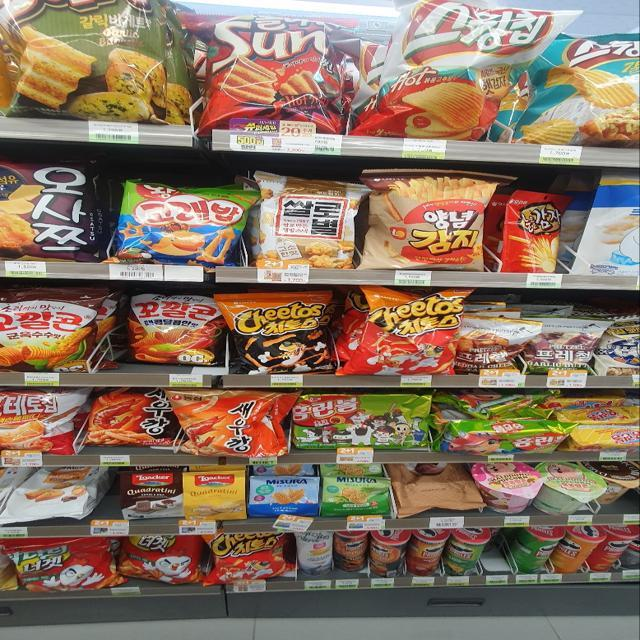product: (377, 0, 565, 140), (212, 18, 350, 133), (356, 170, 498, 272), (111, 184, 248, 266), (260, 172, 360, 271), (358, 290, 474, 370), (222, 294, 336, 371), (297, 392, 438, 450), (8, 289, 108, 367), (178, 394, 284, 459), (128, 298, 222, 367)
